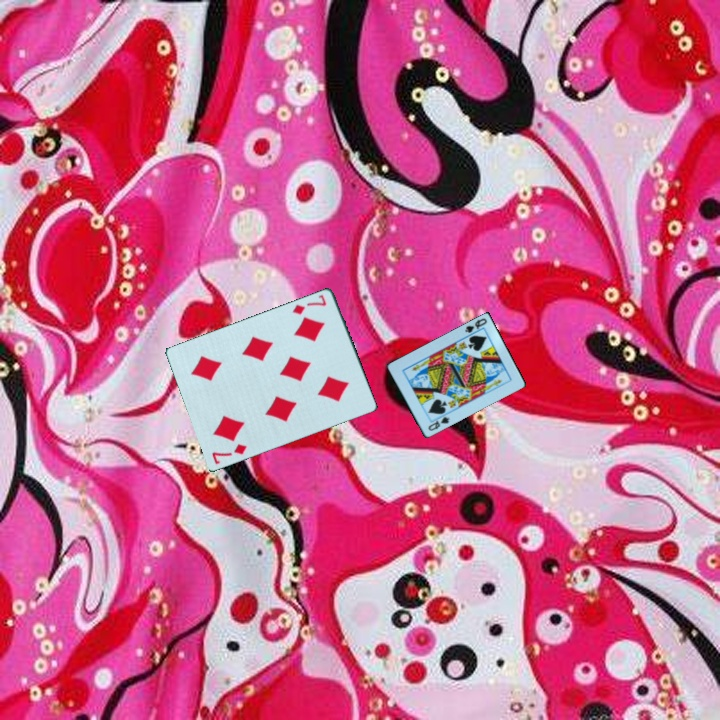7d: (208, 440, 250, 467), (289, 291, 329, 317)
Qs: (462, 315, 490, 336), (425, 413, 452, 434)
